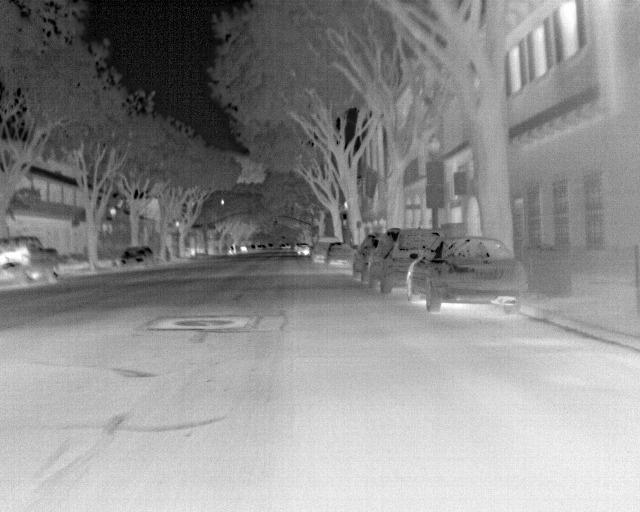bicycle: (406, 235, 523, 312), (368, 228, 443, 294), (0, 236, 59, 288), (353, 232, 384, 282), (121, 246, 155, 268), (324, 242, 355, 266), (309, 241, 330, 264), (296, 242, 313, 257)
